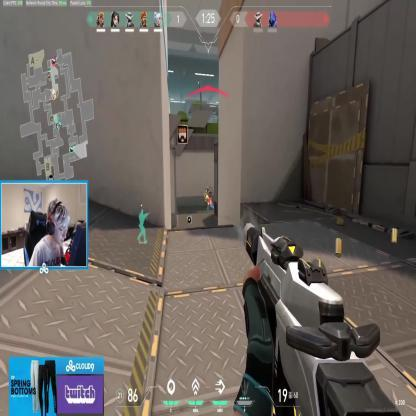enemy: (206, 187, 210, 208), (204, 192, 208, 208)
enemy_head: (207, 187, 209, 191), (204, 192, 206, 196)
